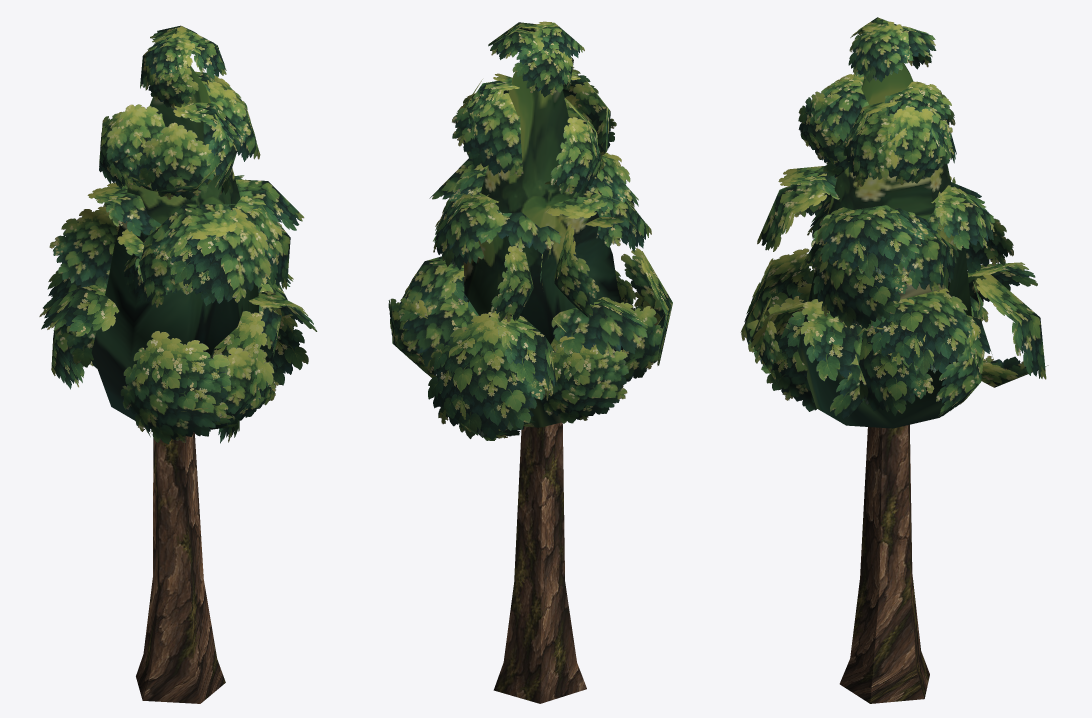
Rendered from tree_linden_lod1.glb.
The picture shows the model from 3 angles, left to right: view 1: azimuth 30°, elevation 25°; view 2: azimuth 150°, elevation 25°; view 3: azimuth 270°, elevation 25°; orthographic projection.
Visible parts, largest first — view 1: tree_linden_lod1; view 2: tree_linden_lod1; view 3: tree_linden_lod1.
Part boxes in pixels (bbox=[...]): tree_linden_lod1: bbox=[39, 25, 317, 703]; tree_linden_lod1: bbox=[388, 21, 672, 703]; tree_linden_lod1: bbox=[740, 17, 1048, 703].
Size of the model in its own units: 2.86 by 6.3 by 3.02.
Materials: 2 (2 with a texture image).
